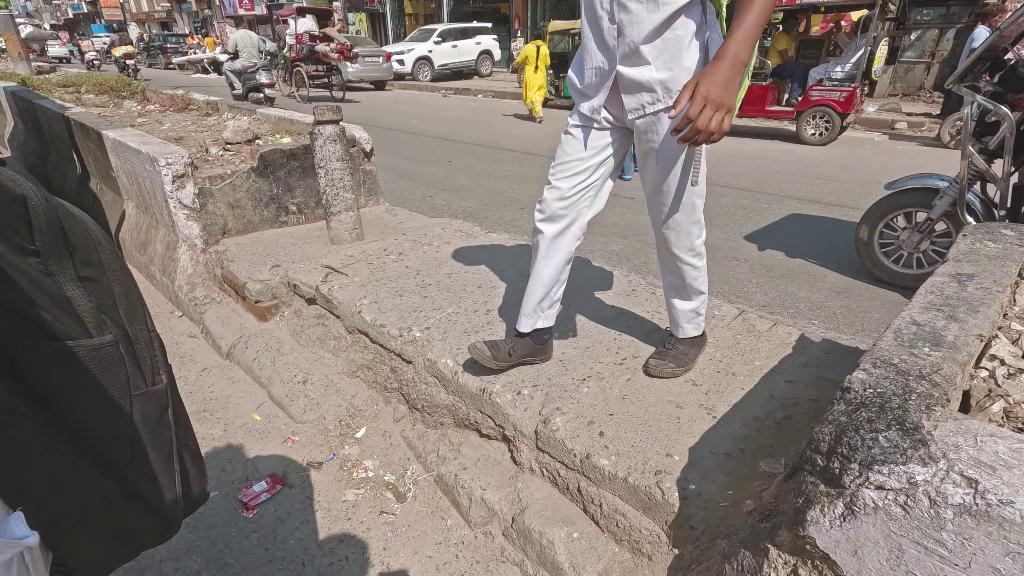garbage: (237, 469, 285, 511)
